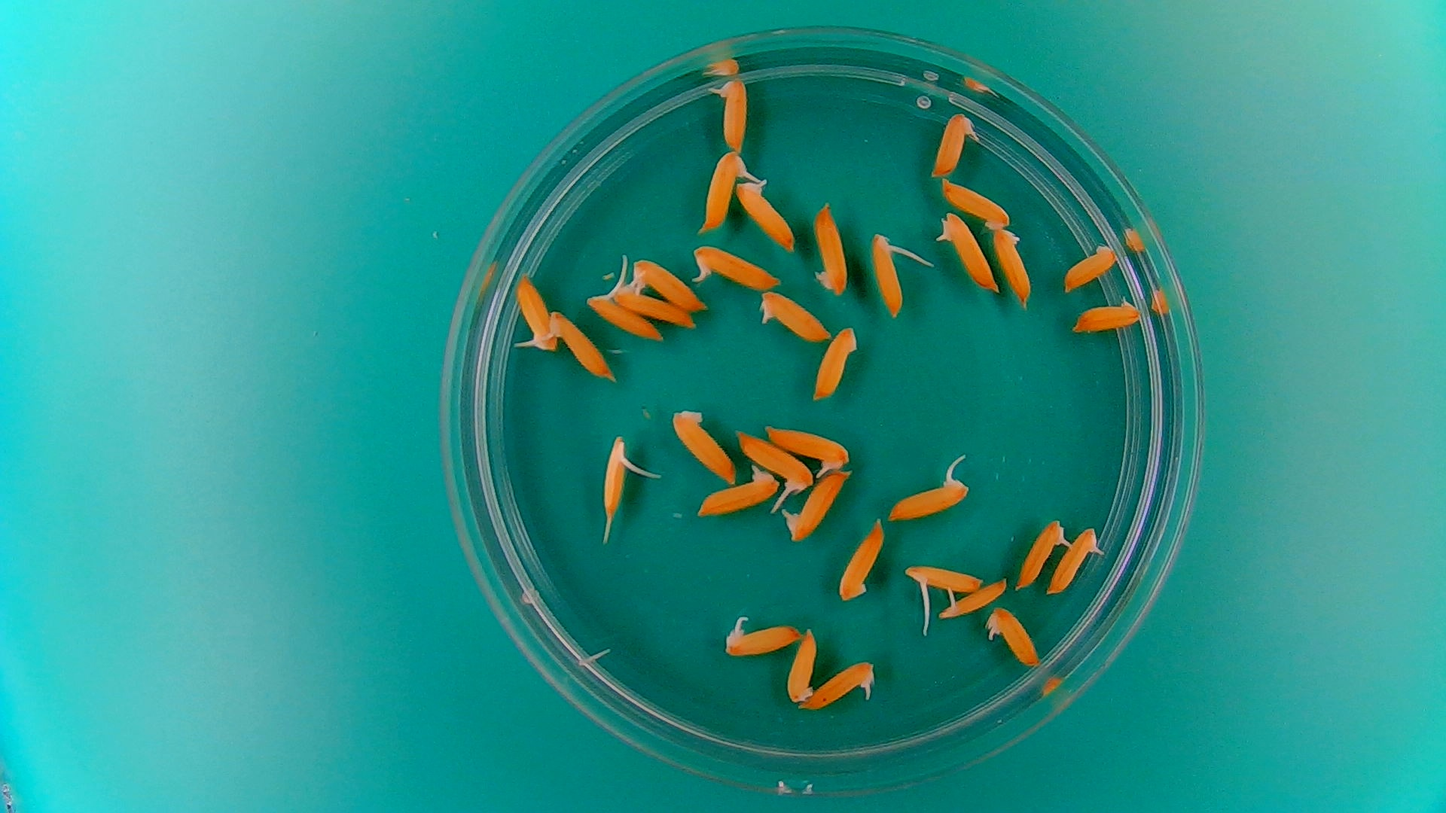no: (667, 403, 737, 485), (833, 516, 886, 603), (810, 199, 850, 298), (938, 176, 1010, 230), (990, 226, 1034, 306), (813, 327, 861, 400), (1061, 241, 1120, 292), (784, 624, 820, 706), (1070, 296, 1143, 335)
yes: (732, 428, 815, 496), (779, 467, 853, 543), (734, 173, 799, 254), (548, 306, 617, 382), (934, 212, 999, 292), (763, 421, 854, 474), (796, 656, 879, 714), (688, 242, 782, 291), (752, 288, 832, 345), (695, 470, 778, 518), (633, 256, 708, 309), (884, 475, 966, 523), (1014, 521, 1066, 592), (719, 614, 804, 657), (929, 108, 980, 179), (612, 283, 695, 325), (581, 297, 662, 340), (1046, 529, 1098, 595), (987, 605, 1042, 667), (514, 278, 558, 355), (705, 156, 748, 233), (938, 575, 1011, 619), (871, 230, 905, 321), (908, 557, 987, 594), (602, 432, 635, 519), (717, 74, 751, 153)
